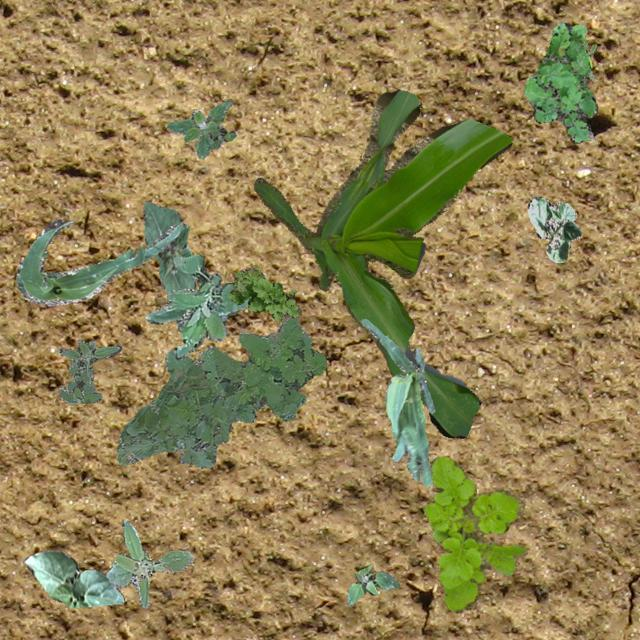crop: (253, 89, 512, 438), (16, 218, 180, 304), (359, 318, 434, 484), (22, 550, 124, 606), (142, 200, 194, 292), (526, 196, 580, 262)
weed: (116, 316, 326, 468), (422, 456, 524, 612), (144, 254, 250, 358), (522, 20, 596, 142), (104, 520, 192, 608), (166, 99, 236, 158), (58, 338, 120, 404), (228, 266, 300, 320), (346, 564, 398, 604), (584, 41, 596, 78)
